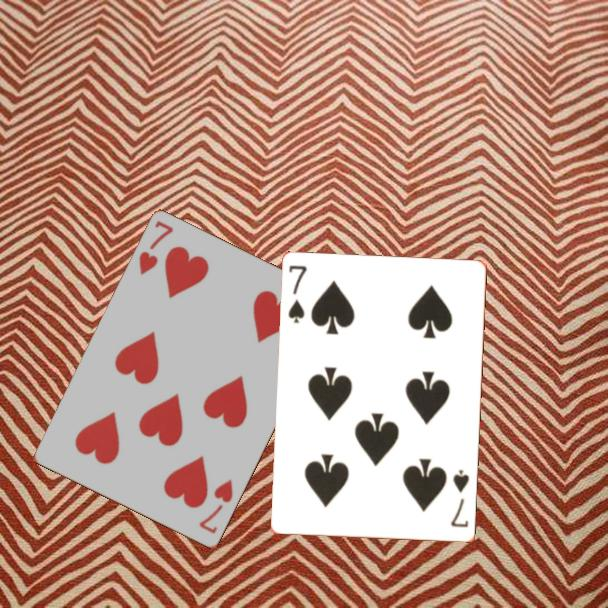h07: (135, 217, 176, 279), (196, 476, 236, 537)
s07: (447, 467, 472, 531), (285, 262, 310, 326)
